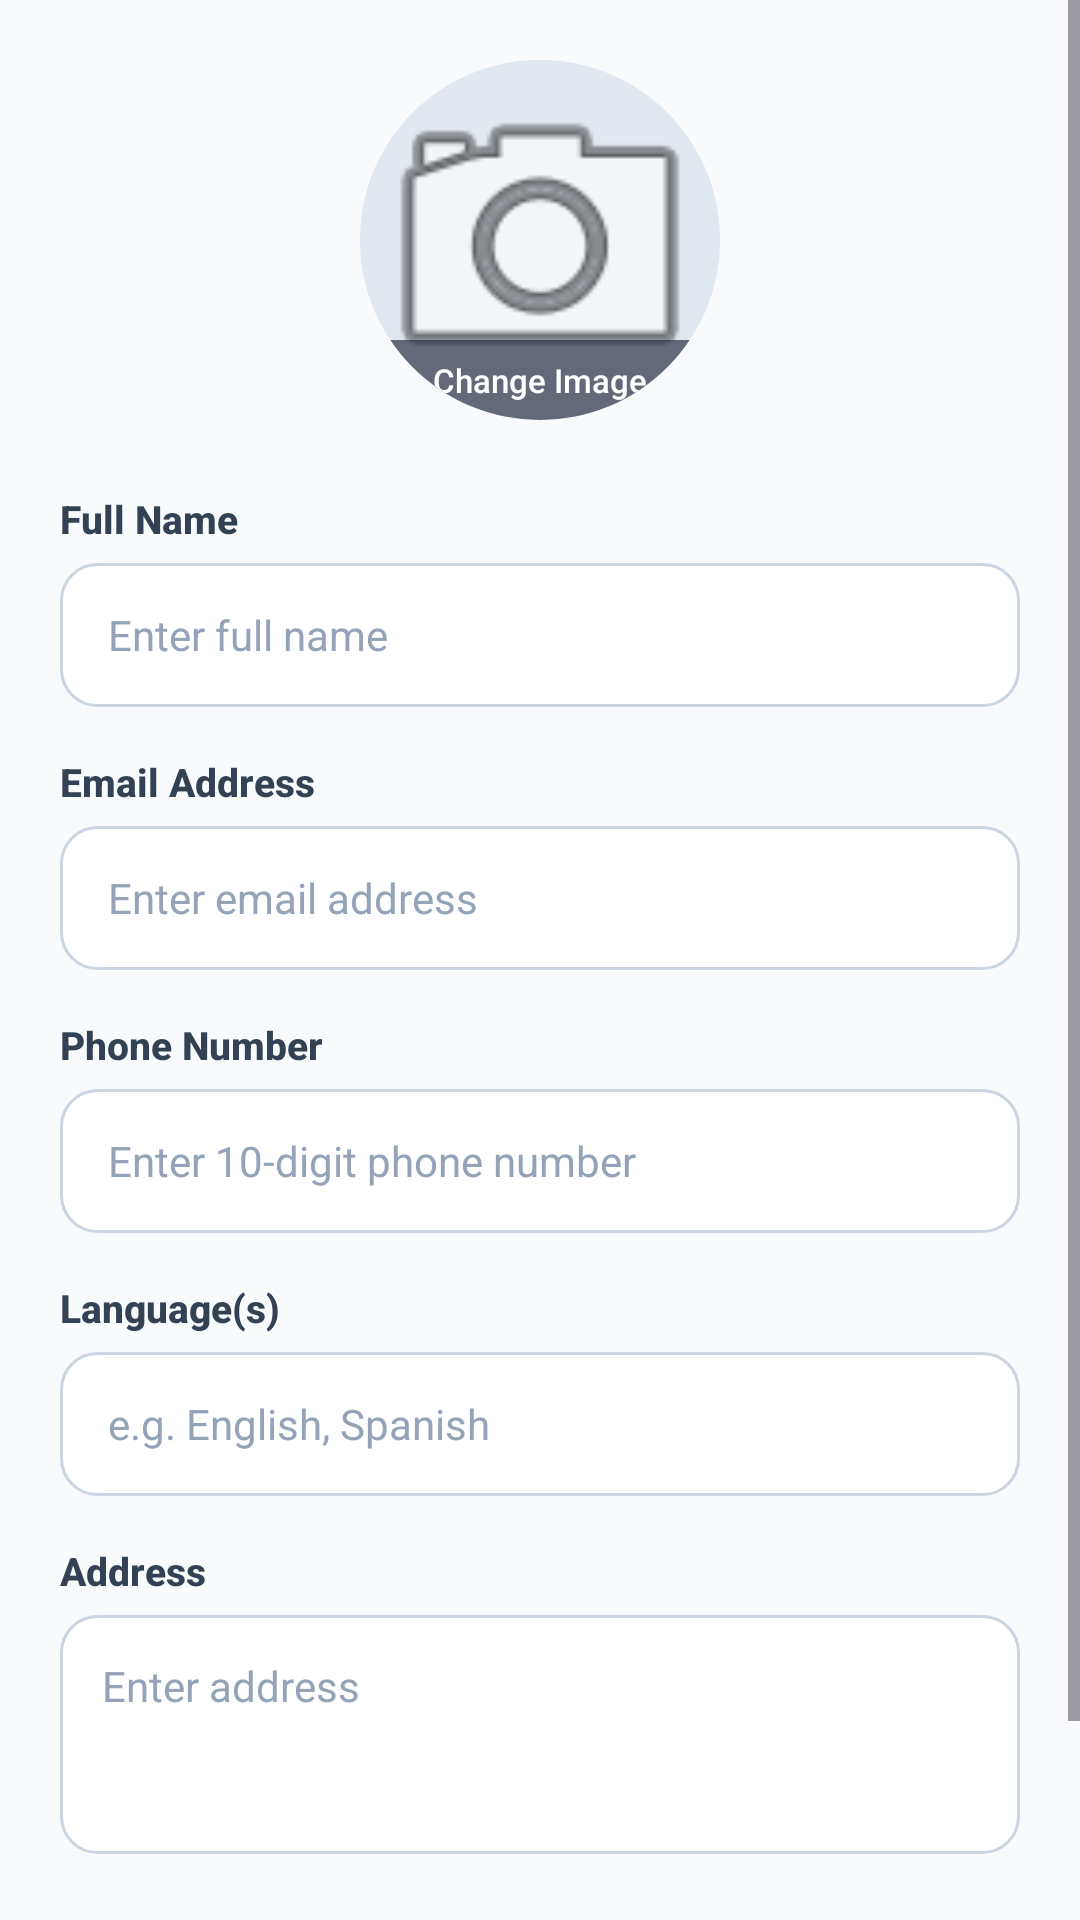

Icons on this 1080px x 1920px Android screen, each with its box as Rect(x1, y1, x2, y2):
Profile Picture: Rect(376, 113, 690, 420)
